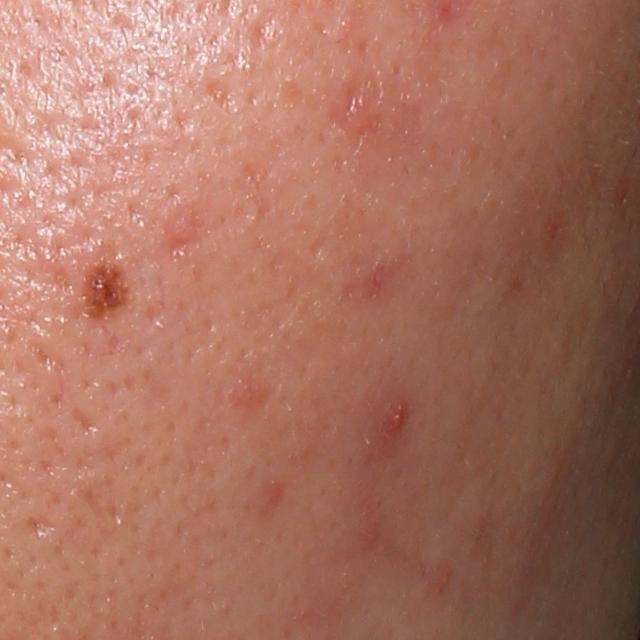atrophic_scar: (73, 475, 126, 528), (206, 78, 245, 116), (249, 4, 280, 45), (65, 402, 99, 433), (27, 517, 59, 539)
nevus: (78, 255, 133, 320)
papule: (385, 397, 408, 440)
